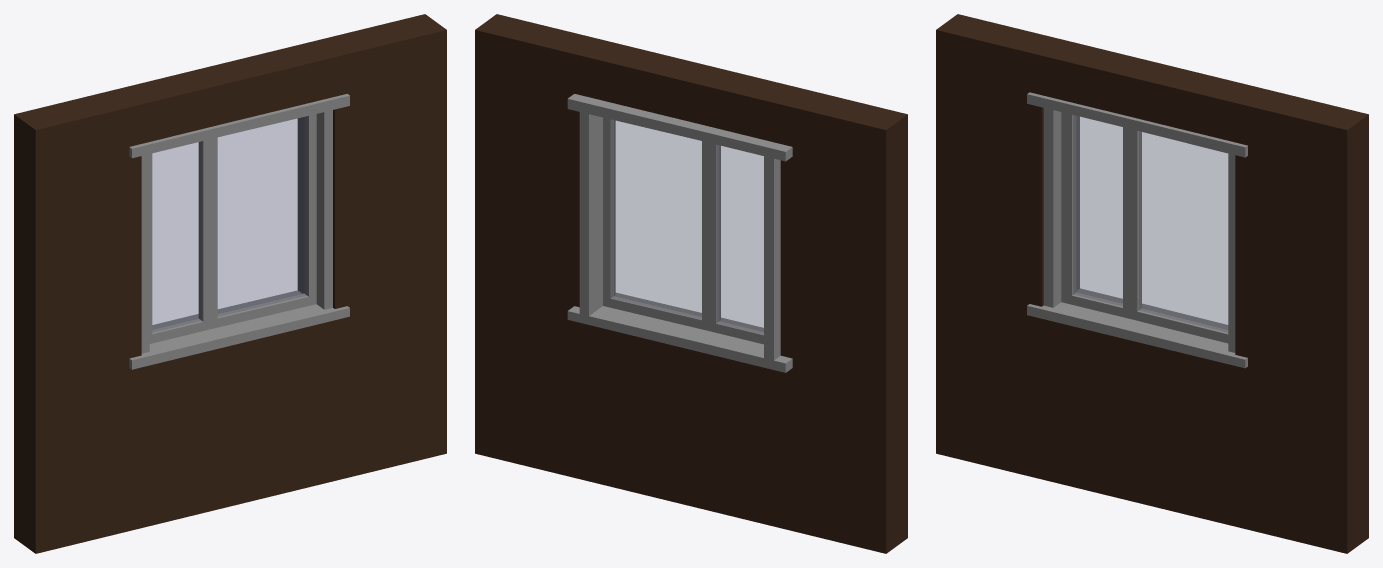
The model's file is Middle_floor_Stairs.FBX.
3 views of the same model, side by side, from view 1: azimuth 30°, elevation 25°; view 2: azimuth 150°, elevation 25°; view 3: azimuth 330°, elevation 25° (orthographic).
Visible parts, largest first — view 1: Hub_1_075; view 2: Hub_1_075; view 3: Hub_1_075.
Part boxes in pixels (<box>): Hub_1_075: <box>14,14,446,553</box>; Hub_1_075: <box>475,14,907,553</box>; Hub_1_075: <box>936,14,1368,553</box>.
Size of the model in its own units: 284 by 37.15 by 280.
